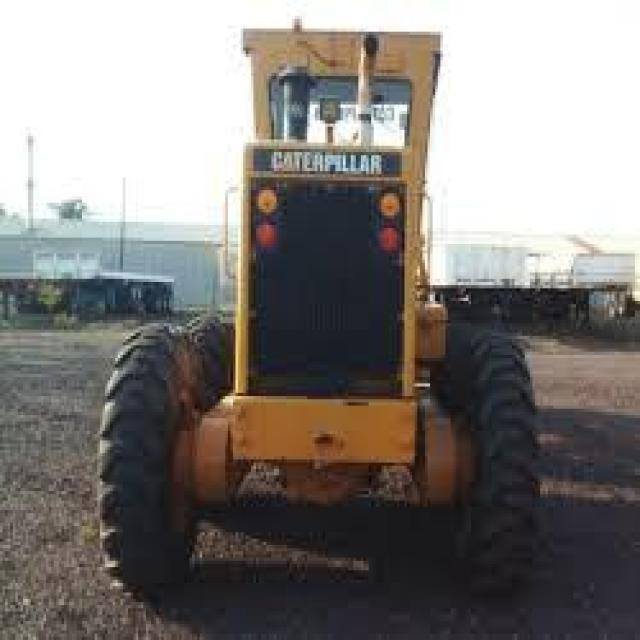buldozerpayloadergrader: (64, 6, 586, 586)
